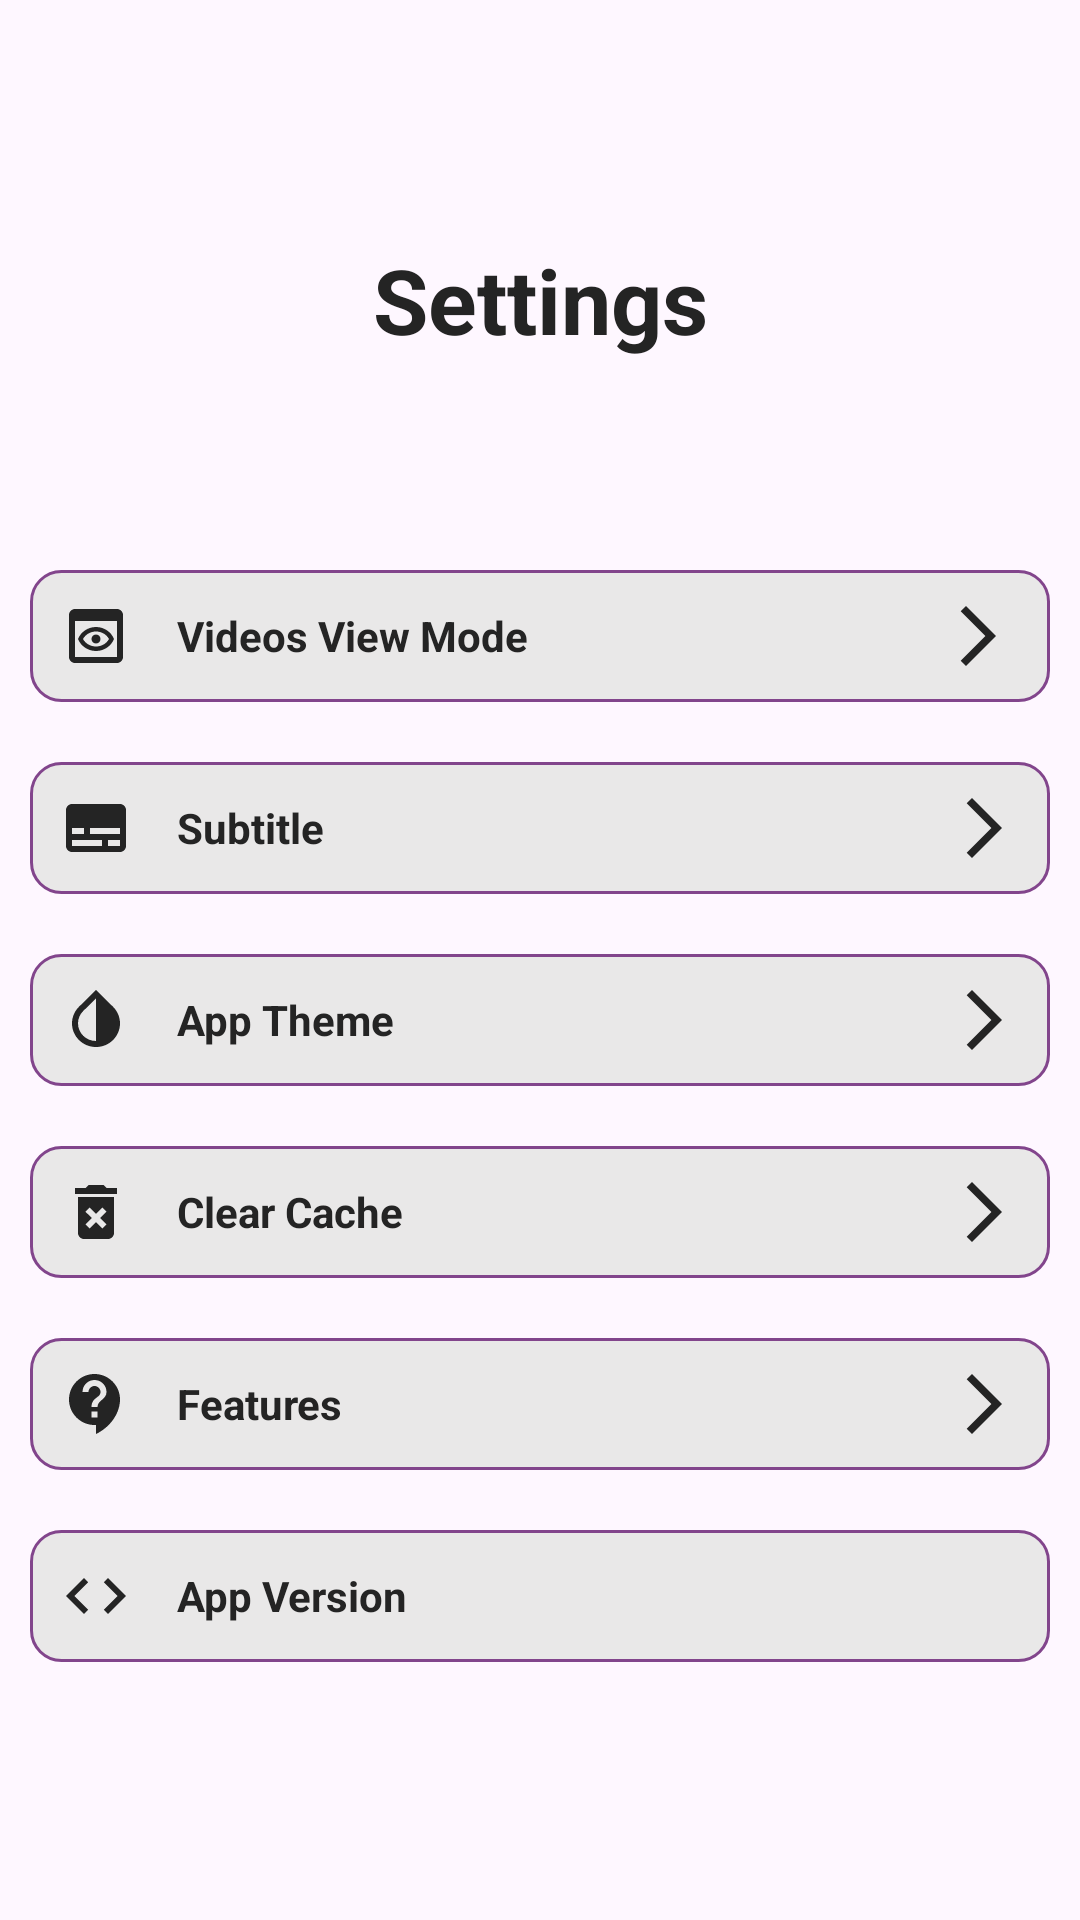

Icon click points for this 1080px×1920px phone screenshot, format (x=x, y=y):
forward: (x=978, y=636)
